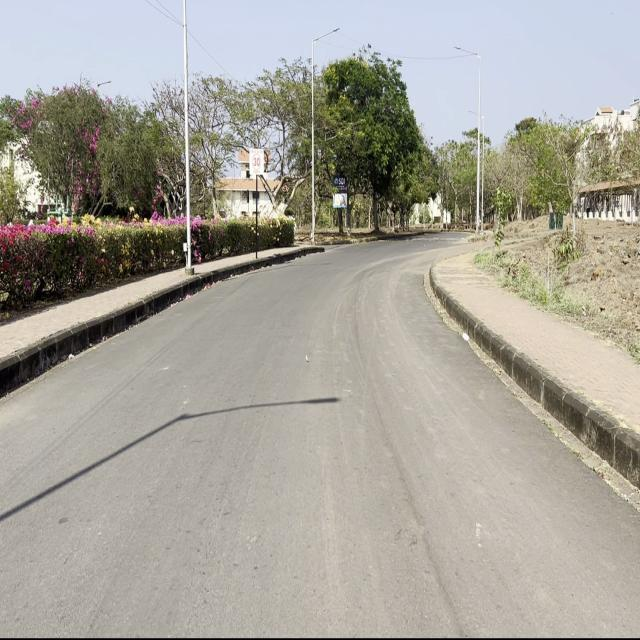Road: (3, 236, 637, 633)
